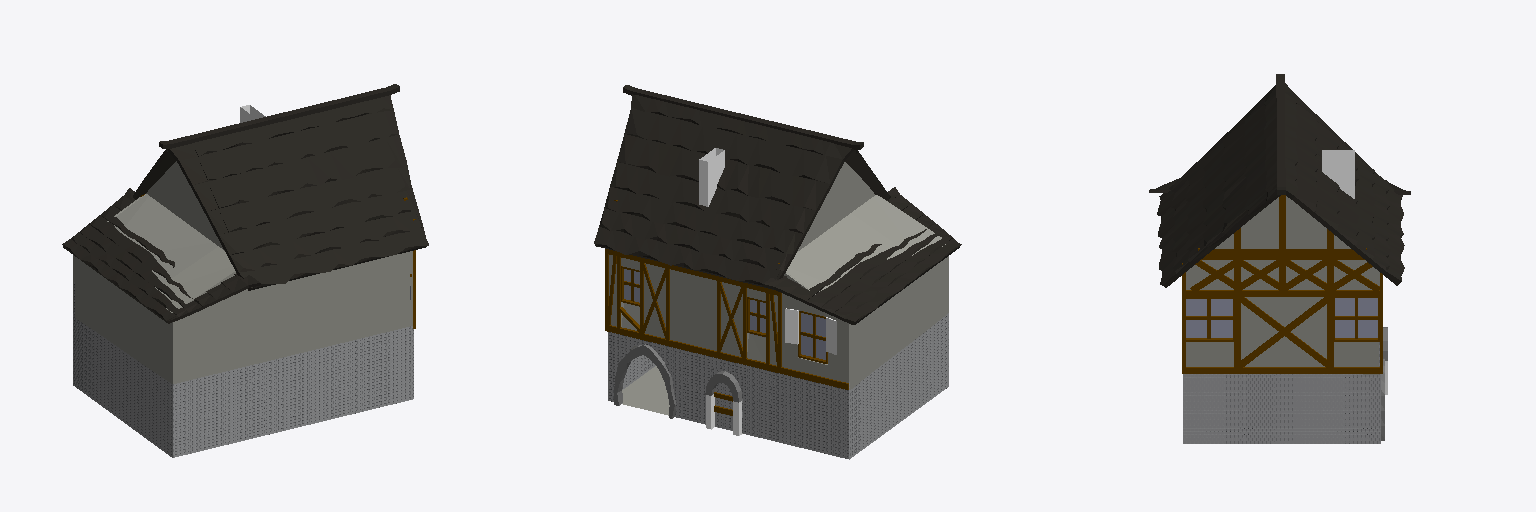
The picture shows the model from 3 angles: view 1: azimuth 30°, elevation 25°; view 2: azimuth 150°, elevation 25°; view 3: azimuth 270°, elevation 25°; orthographic projection.
Visible parts, largest first — view 1: bigLeftHouse; view 2: bigLeftHouse; view 3: bigLeftHouse.
Part boxes in pixels (x1,y1,x2,y2): bigLeftHouse: (62, 84, 428, 457); bigLeftHouse: (594, 85, 961, 459); bigLeftHouse: (1149, 74, 1410, 443).
Bounding box in the file's own units: 16.6 × 15.09 × 13.25.
7 materials, 1 textured.